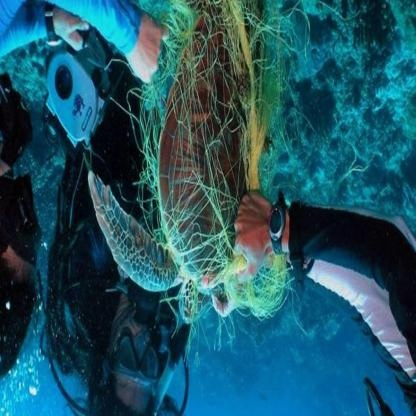net: (153, 8, 289, 316)
